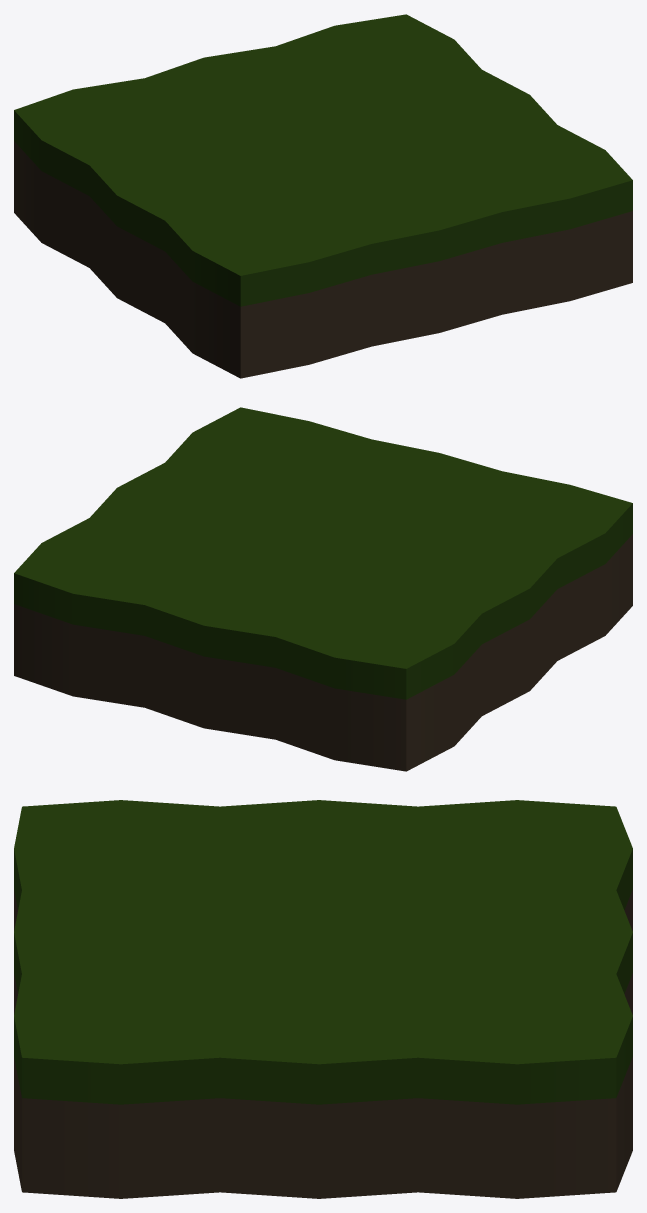
The model's file is jaggeredTile-06b_col.fbx.
The picture shows the model from 3 angles, top to bottom: view 1: azimuth 30°, elevation 25°; view 2: azimuth 150°, elevation 25°; view 3: azimuth 270°, elevation 25°; orthographic projection. The views are drawn at different scales.
Visible parts, largest first — view 1: jaggeredTile-06b.col; view 2: jaggeredTile-06b.col; view 3: jaggeredTile-06b.col.
Boxes of the visible parts, x1=… form: jaggeredTile-06b.col: x1=14, y1=14, x2=632, y2=378; jaggeredTile-06b.col: x1=14, y1=407, x2=632, y2=771; jaggeredTile-06b.col: x1=14, y1=800, x2=632, y2=1198.
Bounding box in the file's own units: 2.1 × 0.5 × 2.08.
1 material, 1 textured.
